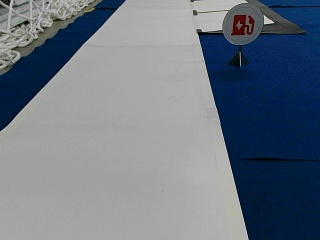battery: (222, 2, 263, 45)
